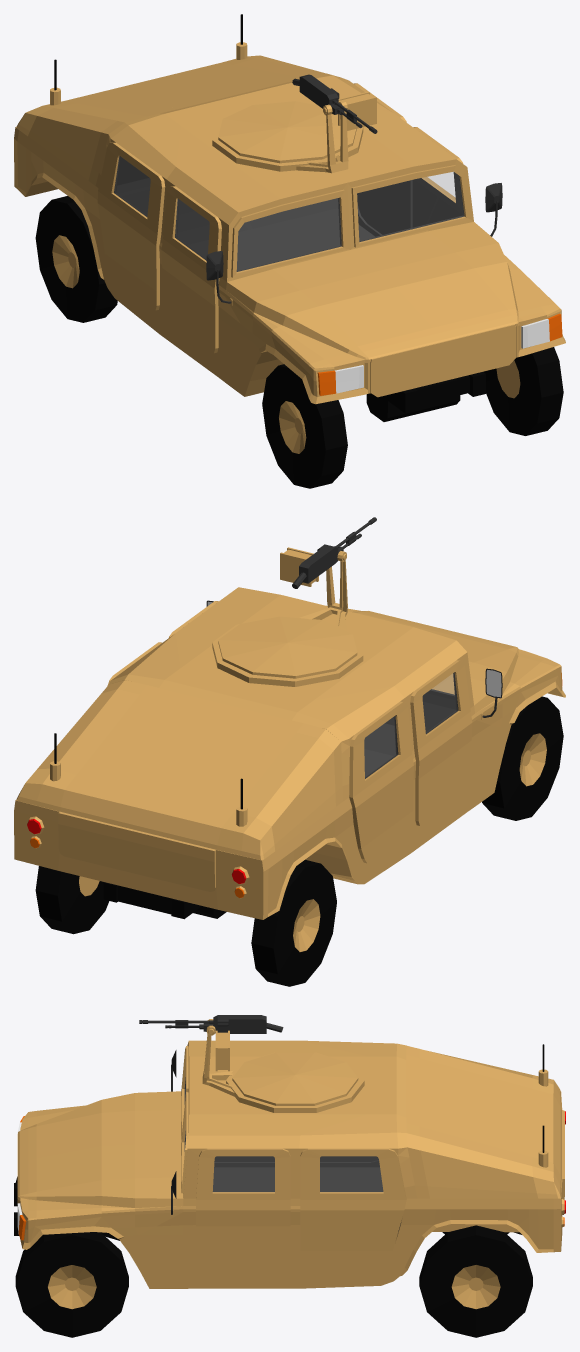
The picture shows the model from 3 angles, top to bottom: view 1: azimuth 30°, elevation 25°; view 2: azimuth 150°, elevation 25°; view 3: azimuth 270°, elevation 25°; orthographic projection. The views are drawn at different scales.
Parts seen in each view (by area): view 1: Plane.030, Plane.032, Plane.035, Plane.031, Plane.038, Cylinder.014, Cylinder.013, Plane.034, Plane.039, Cylinder.012, Plane.036, Plane.037 (+2 smaller); view 2: Plane.030, Plane.039, Plane.031, Plane.038, Cylinder.013, Plane.033, Plane.034, Cylinder.014, Cylinder.015, Plane.035, Cube.006, Cube.007; view 3: Plane.030, Plane.037, Plane.036, Cylinder.015, Plane.039, Cylinder.012, Plane.034, Plane.035, Cube.006, Cube.007.
Boxes of the visible parts, x1,y1,x2,y2 form: Plane.030: (14,14,565,421); Plane.032: (237,172,463,270); Plane.035: (116,157,464,271); Plane.031: (97,142,165,310); Plane.038: (161,186,221,353); Cylinder.014: (262,364,347,488); Cylinder.013: (35,196,117,322); Plane.034: (218,101,356,163); Plane.039: (65,62,295,115); Cylinder.012: (483,347,563,435); Plane.036: (412,127,463,227); Plane.037: (353,83,406,234); Plane.030: (14,587,565,919); Plane.039: (60,694,295,849); Plane.031: (349,701,413,863); Plane.038: (410,660,472,825); Cylinder.013: (251,859,336,986); Plane.033: (58,811,215,891); Plane.034: (218,616,357,678); Cylinder.014: (482,696,563,820); Cylinder.015: (35,866,109,934); Plane.035: (364,689,455,776); Cube.006: (280,517,376,588); Cube.007: (299,551,347,629); Plane.030: (14,1040,565,1288); Plane.037: (300,1148,406,1270); Plane.036: (196,1148,290,1270); Cylinder.015: (419,1225,532,1337); Plane.039: (419,1058,561,1178); Cylinder.012: (15,1232,128,1337); Plane.034: (232,1052,358,1105); Plane.035: (184,1077,383,1191); Cube.006: (139,1015,283,1071); Cube.007: (202,1019,234,1096).
Bounding box in the file's own units: 242 × 236 × 438.
